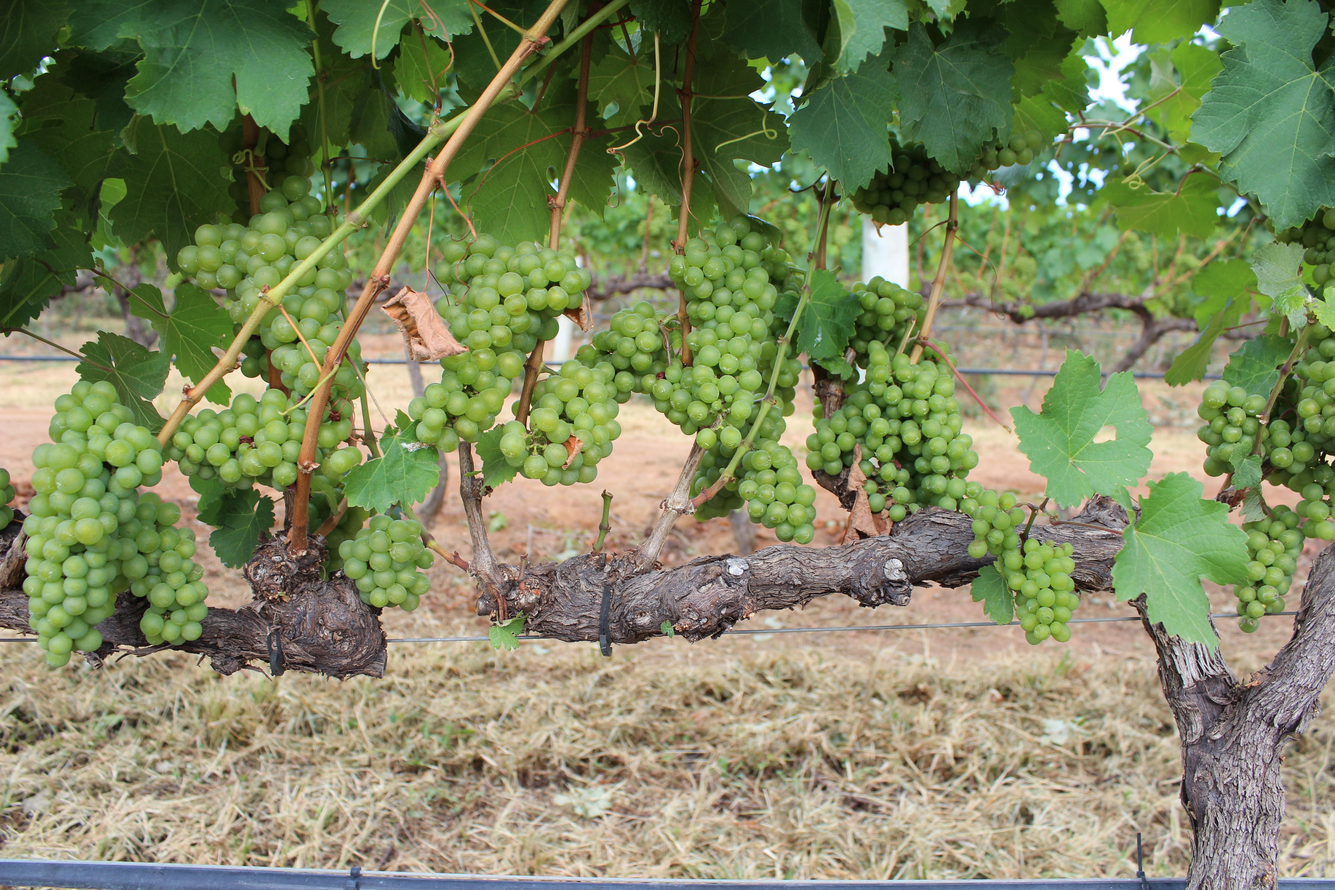leaf: (70, 0, 313, 138), (1191, 0, 1335, 228), (1112, 473, 1248, 648), (1011, 349, 1152, 507), (892, 19, 1014, 173), (110, 117, 235, 263), (789, 58, 898, 189), (19, 68, 115, 200), (0, 210, 92, 328), (130, 283, 233, 383), (76, 332, 169, 432), (0, 140, 72, 259), (1100, 173, 1219, 238), (1145, 42, 1222, 142), (344, 434, 440, 513), (723, 0, 822, 66), (321, 0, 425, 59), (198, 488, 274, 568), (795, 269, 861, 360), (0, 0, 69, 84), (832, 0, 908, 73), (1102, 0, 1219, 44), (588, 47, 654, 125), (1251, 242, 1308, 327), (1191, 259, 1257, 328), (1222, 335, 1293, 396), (475, 425, 519, 490), (630, 0, 691, 45), (970, 564, 1014, 625), (430, 0, 473, 38), (0, 92, 18, 164), (206, 380, 230, 406), (775, 294, 798, 320), (405, 42, 411, 52), (416, 47, 420, 53), (1230, 321, 1236, 324), (411, 39, 415, 43), (426, 19, 430, 22), (201, 498, 202, 502), (441, 35, 444, 36), (387, 431, 387, 431), (717, 94, 726, 94)
